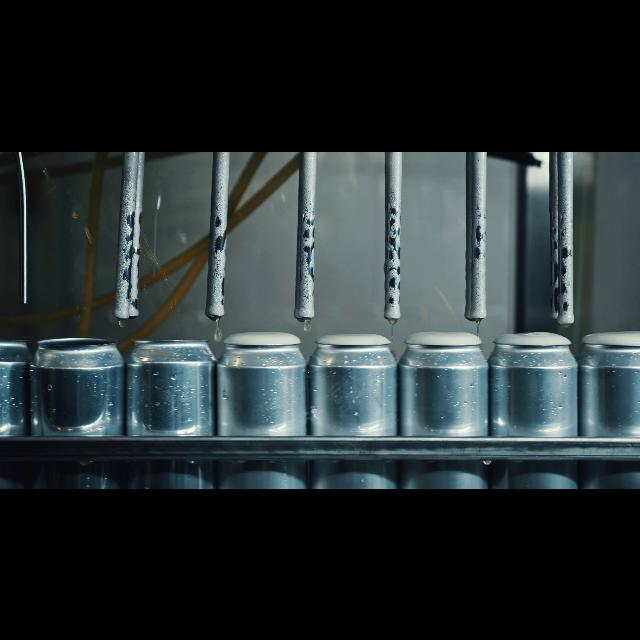empty: (25, 330, 129, 488), (134, 332, 212, 488)
full: (216, 326, 306, 488), (308, 326, 394, 488), (401, 324, 485, 488), (492, 328, 574, 488), (578, 329, 640, 489)
